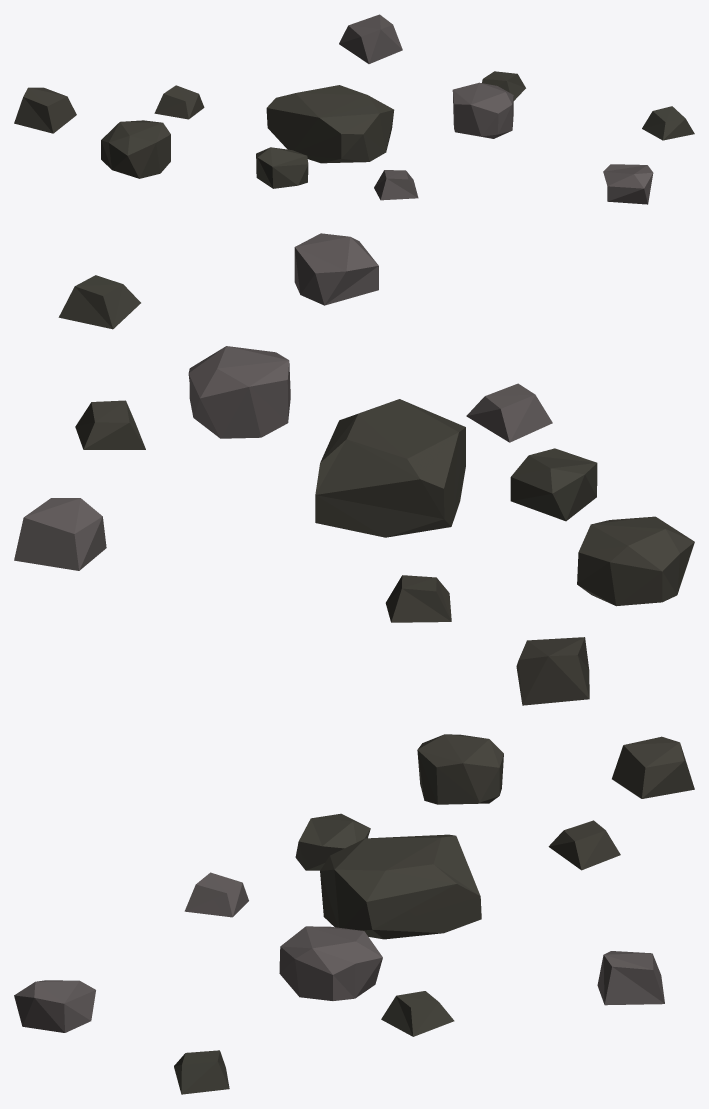
Rendered from rocks.glb.
3 renders of one model, top to bottom at view 1: azimuth 30°, elevation 25°; view 2: azimuth 150°, elevation 25°; view 3: azimuth 270°, elevation 25°, orthographic. The views are drawn at different scales.
Visible parts, largest first — view 1: SM_Env_Rocks_Small_01; view 2: SM_Env_Rocks_Small_01; view 3: SM_Env_Rocks_Small_01.
Boxes of the visible parts, <box> form: SM_Env_Rocks_Small_01: <box>14,14,694,204</box>; SM_Env_Rocks_Small_01: <box>14,233,694,705</box>; SM_Env_Rocks_Small_01: <box>14,734,694,1094</box>.
Size of the model in its own units: 234 by 24.84 by 205.
Materials: 1 (1 with a texture image).
